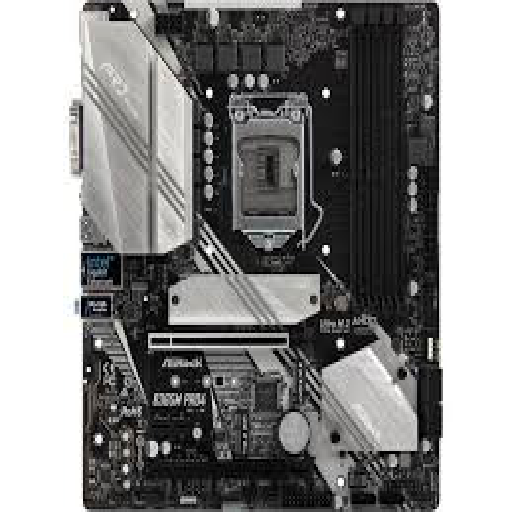CPU: (218, 84, 328, 251)
GPU: (135, 446, 330, 488), (137, 326, 323, 360)
MOTHERBOARD: (72, 1, 446, 512)
RAM: (341, 8, 414, 316)
SSD: (281, 352, 314, 414), (226, 409, 261, 460)
